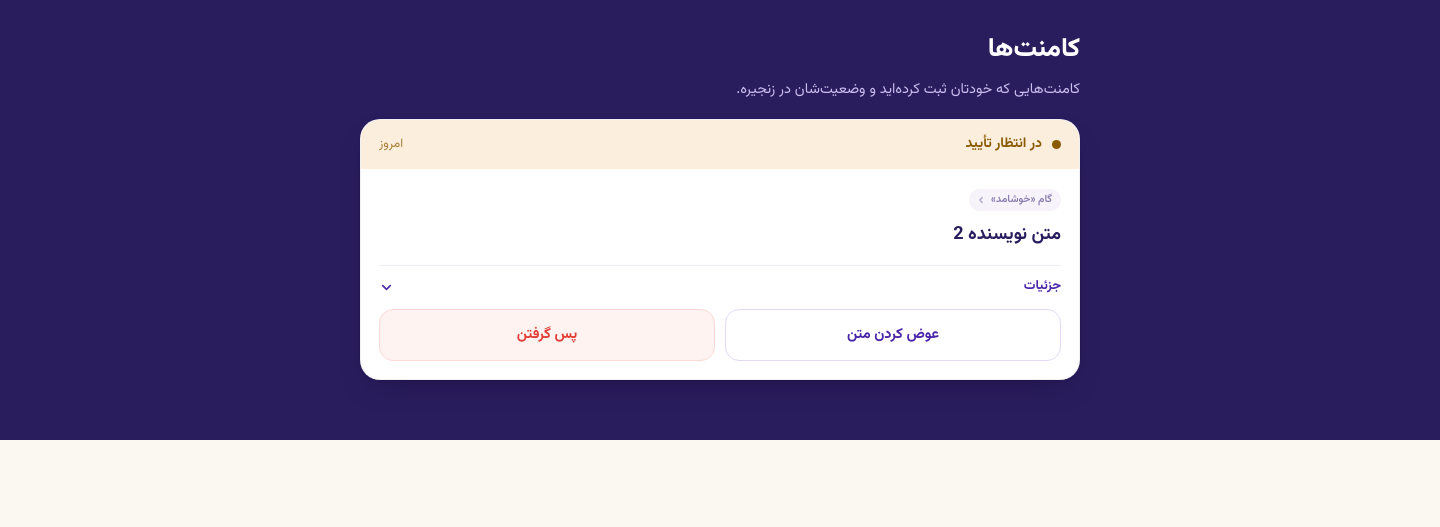
reader inbox › shows a non-approver no tabs, only their own comments, with the author controls
This screenshot has width=1440, height=527.
Expected: the text "متن نویسنده 2" is shown, x1=953 y1=221 x2=1061 y2=249
Expected: the button "عوض کردن متن" is shown, x1=725 y1=309 x2=1061 y2=361
Click the button "جزئیات" at (1042, 286), box x1=379 y1=266 x2=1061 y2=297
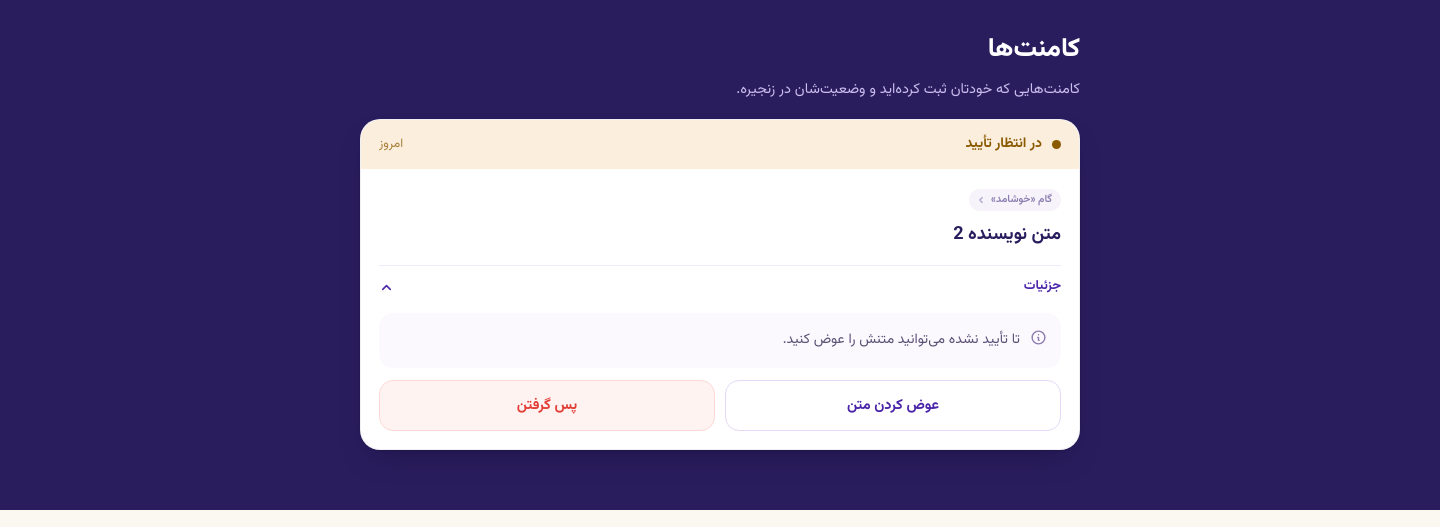
Expected: the text "کامنت‌هایی که خودتان ثبت کرده‌اید و وضعیت‌شان در زنجیره." is shown, x1=736 y1=78 x2=1080 y2=101
Result: the text "تا تأیید نشده می‌توانید متنش را عوض کنید." is shown at x1=783 y1=327 x2=1020 y2=354
